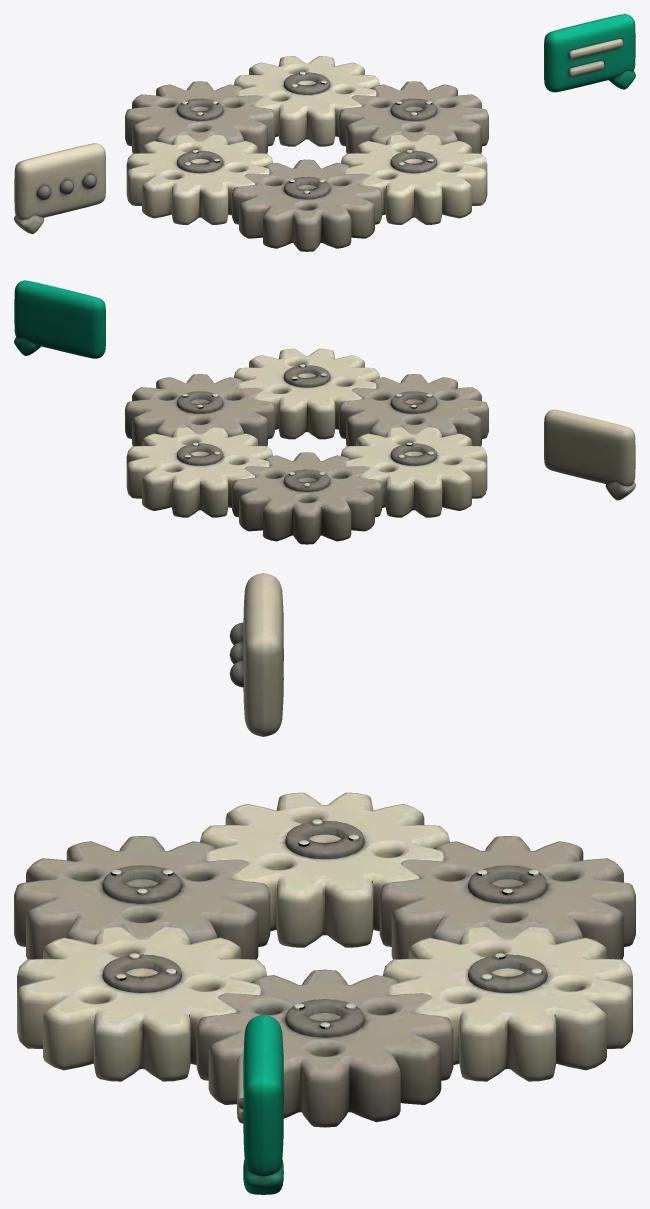
File: gears.glb
The picture shows the model from 3 angles, top to bottom: view 1: azimuth 30°, elevation 25°; view 2: azimuth 150°, elevation 25°; view 3: azimuth 270°, elevation 25°; orthographic projection. The views are drawn at different scales.
Parts seen in each view (by area): view 1: Gear_4_mesh, Gear_3_mesh, Gear_5_mesh, Gear_1_mesh, Gear_0_mesh, Gear_2_mesh, Message_mesh, Reply_mesh; view 2: Gear_2_mesh, Gear_1_mesh, Gear_3_mesh, Gear_5_mesh, Gear_0_mesh, Gear_4_mesh, Message_mesh, Reply_mesh; view 3: Gear_5_mesh, Gear_1_mesh, Gear_0_mesh, Gear_3_mesh, Gear_2_mesh, Gear_4_mesh, Reply_mesh, Message_mesh.
Part boxes in pixels (box(x1,y1,x2,y2)): Gear_4_mesh: box(232, 159, 381, 251); Gear_3_mesh: box(126, 134, 272, 224); Gear_5_mesh: box(341, 134, 487, 224); Gear_1_mesh: box(234, 56, 379, 146); Gear_0_mesh: box(339, 81, 488, 153); Gear_2_mesh: box(125, 81, 274, 153); Message_mesh: box(14, 143, 105, 233); Reply_mesh: box(544, 14, 635, 92); Gear_2_mesh: box(232, 452, 381, 544); Gear_1_mesh: box(126, 427, 273, 517); Gear_3_mesh: box(341, 427, 487, 517); Gear_5_mesh: box(234, 348, 379, 439); Gear_0_mesh: box(125, 374, 274, 446); Gear_4_mesh: box(339, 374, 488, 446); Message_mesh: box(544, 409, 635, 500); Reply_mesh: box(14, 280, 105, 358); Gear_5_mesh: box(17, 926, 267, 1081); Gear_1_mesh: box(382, 926, 632, 1081); Gear_0_mesh: box(196, 969, 453, 1127); Gear_3_mesh: box(200, 792, 449, 947); Gear_2_mesh: box(379, 836, 635, 959); Gear_4_mesh: box(14, 836, 270, 959); Reply_mesh: box(237, 1014, 283, 1194); Message_mesh: box(229, 573, 283, 736).
Size of the model in its own units: 5.96 by 0.918 by 3.04.
1 material, 1 textured.
